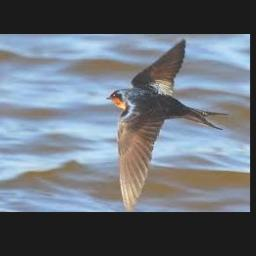Swallow: (106, 39, 228, 211)
